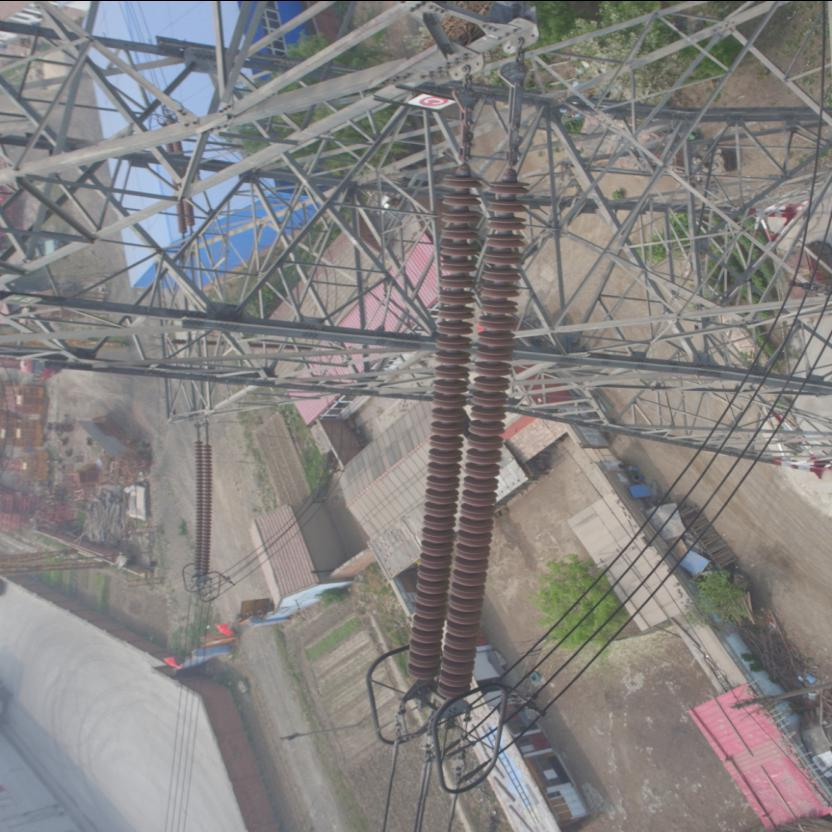insulator: (399, 124, 530, 706), (188, 435, 215, 576)
